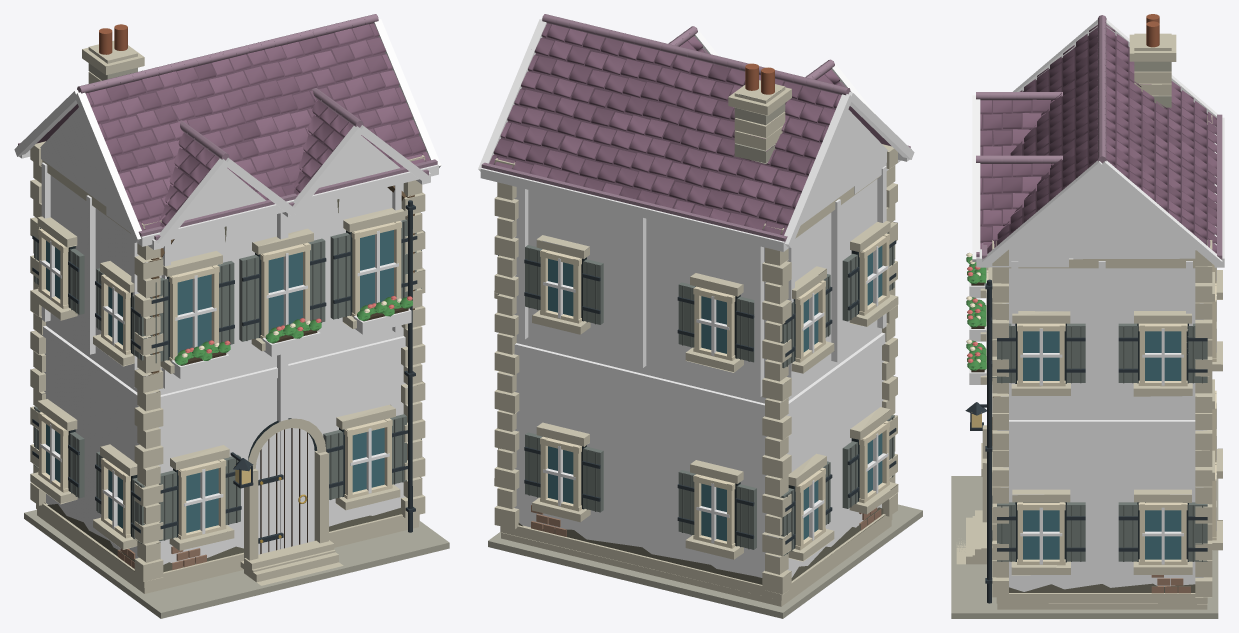
File: townhouse_mauve.glb
The picture shows the model from 3 angles, left to right: view 1: azimuth 30°, elevation 25°; view 2: azimuth 150°, elevation 25°; view 3: azimuth 270°, elevation 25°; orthographic projection. The views are drawn at different scales.
Parts seen in each view (by area): view 1: SourceMesh_00005, SourceMesh_00098, SourceMesh_00000, SourceMesh_00089, SourceMesh_00172, SourceMesh_00084, SourceMesh_00092, SourceMesh_00006, SourceMesh_00090, SourceMesh_00163, SourceMesh_00143, SourceMesh_00085 (+57 smaller); view 2: SourceMesh_00005, SourceMesh_00098, SourceMesh_00086, SourceMesh_00000, SourceMesh_00006, SourceMesh_00084, SourceMesh_00092, SourceMesh_00087, SourceMesh_00001, SourceMesh_00088, SourceMesh_00093, SourceMesh_00640 (+44 smaller); view 3: SourceMesh_00005, SourceMesh_00098, SourceMesh_00095, SourceMesh_00000, SourceMesh_00163, SourceMesh_00086, SourceMesh_00143, SourceMesh_00006, SourceMesh_00084, SourceMesh_00089, SourceMesh_00096, SourceMesh_00097 (+45 smaller).
Part boxes in pixels (bbox=[...]): SourceMesh_00005: bbox=[42, 175, 413, 564]; SourceMesh_00098: bbox=[85, 23, 430, 230]; SourceMesh_00000: bbox=[24, 509, 449, 618]; SourceMesh_00089: bbox=[88, 24, 426, 229]; SourceMesh_00172: bbox=[255, 428, 314, 554]; SourceMesh_00084: bbox=[39, 326, 406, 410]; SourceMesh_00092: bbox=[40, 107, 125, 220]; SourceMesh_00006: bbox=[36, 503, 419, 587]; SourceMesh_00090: bbox=[137, 164, 438, 246]; SourceMesh_00163: bbox=[292, 99, 353, 194]; SourceMesh_00143: bbox=[158, 133, 219, 227]; SourceMesh_00085: bbox=[277, 213, 288, 549]; SourceMesh_00005: bbox=[506, 179, 884, 577]; SourceMesh_00098: bbox=[489, 23, 841, 235]; SourceMesh_00086: bbox=[493, 24, 838, 234]; SourceMesh_00000: bbox=[488, 504, 922, 618]; SourceMesh_00006: bbox=[500, 514, 892, 600]; SourceMesh_00084: bbox=[514, 332, 885, 418]; SourceMesh_00092: bbox=[800, 109, 888, 225]; SourceMesh_00087: bbox=[480, 168, 788, 251]; SourceMesh_00001: bbox=[501, 520, 891, 606]; SourceMesh_00088: bbox=[481, 162, 787, 241]; SourceMesh_00093: bbox=[784, 94, 852, 247]; SourceMesh_00640: bbox=[636, 216, 646, 368]; SourceMesh_00005: bbox=[1001, 258, 1203, 591]; SourceMesh_00098: bbox=[987, 24, 1216, 253]; SourceMesh_00095: bbox=[1009, 170, 1195, 258]; SourceMesh_00000: bbox=[951, 476, 1218, 618]; SourceMesh_00163: bbox=[980, 163, 1053, 249]; SourceMesh_00086: bbox=[1106, 35, 1214, 245]; SourceMesh_00143: bbox=[980, 99, 1054, 155]; SourceMesh_00006: bbox=[996, 593, 1207, 604]; SourceMesh_00084: bbox=[997, 420, 1206, 430]; SourceMesh_00089: bbox=[996, 35, 1097, 245]; SourceMesh_00096: bbox=[1100, 160, 1222, 267]; SourceMesh_00097: bbox=[982, 160, 1104, 267].
Bounding box in the file's own units: 5.89 × 9.28 × 4.71.
